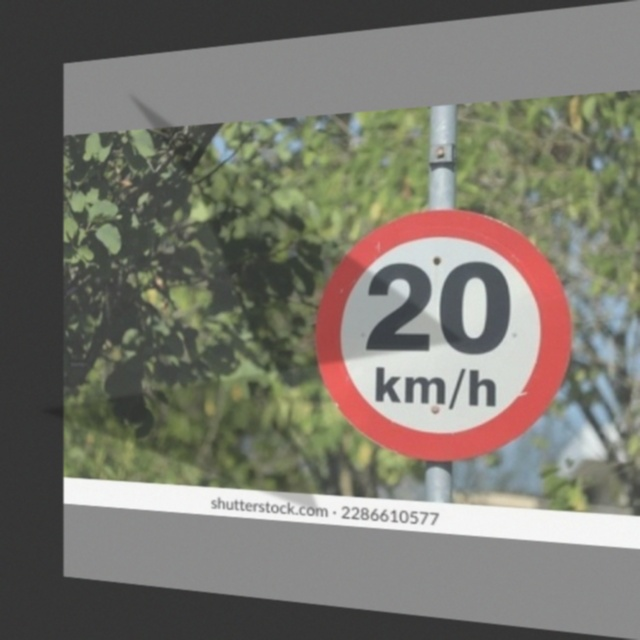Speed_Limit_20: (321, 208, 574, 469)
